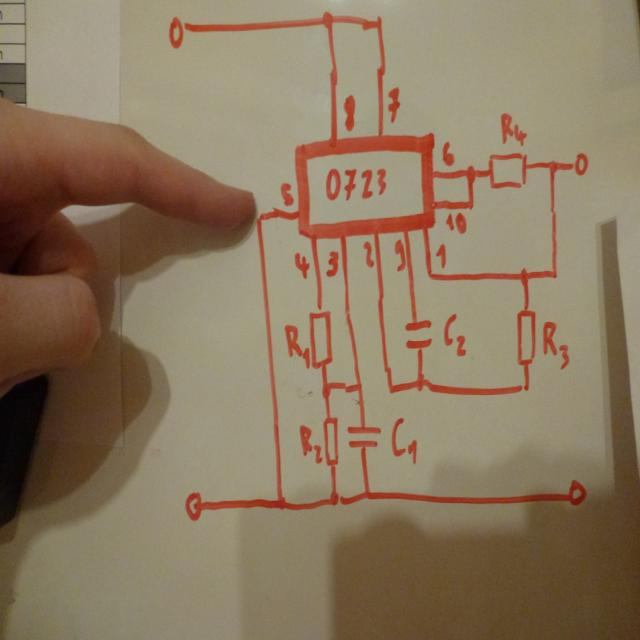capacitor: (344, 417, 382, 454), (403, 314, 435, 354)
junction: (412, 372, 431, 393), (515, 265, 532, 287), (327, 489, 344, 510), (317, 379, 333, 401), (320, 7, 335, 30), (462, 163, 476, 185), (273, 493, 288, 513), (373, 12, 385, 33), (546, 157, 559, 176), (517, 379, 532, 395), (352, 378, 367, 394), (362, 485, 374, 503), (548, 264, 560, 282), (383, 382, 398, 396), (254, 210, 265, 225), (466, 195, 475, 211), (425, 268, 435, 281)
resistor: (307, 302, 336, 373), (486, 150, 532, 192), (514, 304, 538, 371), (321, 410, 341, 470)
terminal: (165, 13, 192, 52), (181, 487, 208, 523), (565, 476, 589, 511), (571, 151, 590, 178)
text: (322, 163, 389, 202), (540, 316, 573, 371), (387, 415, 419, 465), (440, 310, 470, 359), (281, 322, 310, 371), (496, 109, 530, 148), (298, 423, 322, 465), (339, 91, 360, 133), (384, 85, 404, 124), (438, 134, 458, 168), (443, 210, 468, 235), (273, 178, 294, 207), (291, 250, 311, 280), (391, 238, 406, 273), (324, 248, 340, 279), (433, 242, 449, 270), (361, 238, 375, 269)
